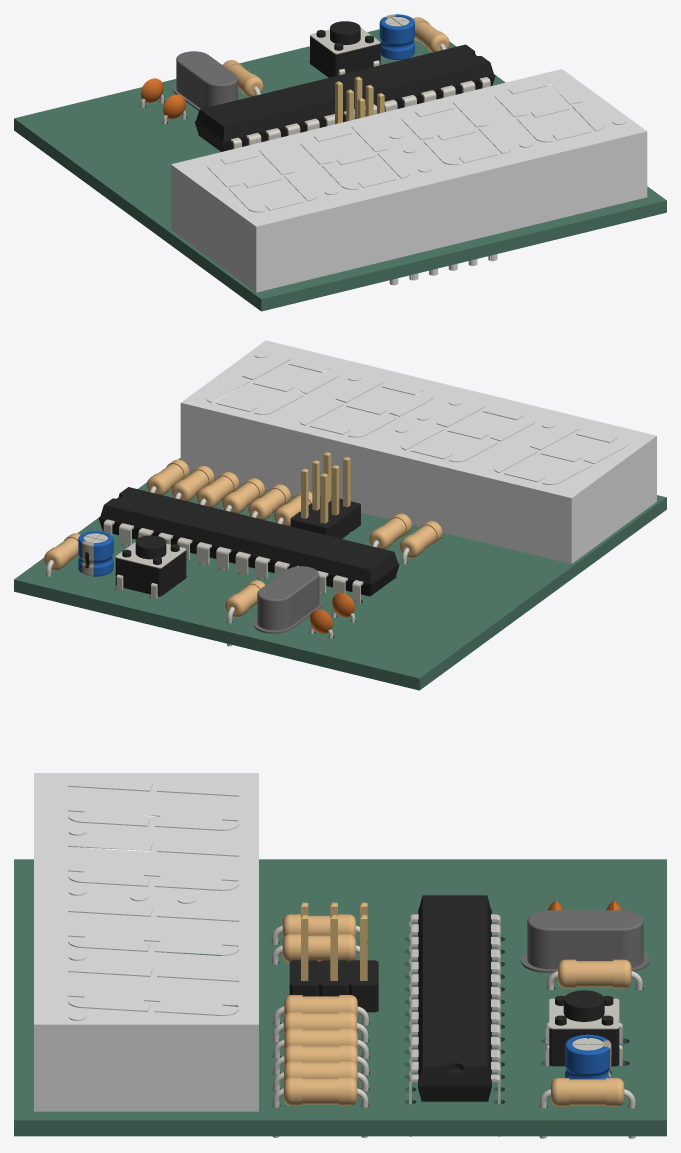
Rendered from 7_segment_display.glb.
3 renders of one model, top to bottom at view 1: azimuth 30°, elevation 25°; view 2: azimuth 150°, elevation 25°; view 3: azimuth 270°, elevation 25°, orthographic. The views are drawn at different scales.
Visible parts, largest first — view 1: 7seg(rev2) (Compound) (×5), =>[0:1:1:10], U1, Lost?Click here â, Y1, C3, Resume, R1, R2, C2, C1; view 2: 7seg(rev2) (Compound) (×5), =>[0:1:1:10], U1, Resume, Lost?Click here â, Y1, C3, R3, R8, R7, R6, R10 (+7 smaller); view 3: 7seg(rev2) (Compound) (×14), =>[0:1:1:10], U1, Y1, Resume, Lost?Click here â, R1, R9, R2, C3, R8, R7 (+5 smaller).
Boxes of the visible parts, <box> form: 7seg(rev2) (Compound) (×5): <box>171,69,647,292</box>; =>[0:1:1:10]: <box>14,29,666,311</box>; U1: <box>195,44,495,151</box>; Lost?Click here â: <box>310,21,380,77</box>; Y1: <box>172,51,237,110</box>; C3: <box>379,14,414,59</box>; Resume: <box>335,76,384,124</box>; R1: <box>413,17,449,52</box>; R2: <box>223,60,263,97</box>; C2: <box>162,94,186,124</box>; C1: <box>140,78,163,107</box>; 7seg(rev2) (Compound) (×5): <box>180,340,656,563</box>; =>[0:1:1:10]: <box>14,413,666,690</box>; U1: <box>99,487,399,603</box>; Resume: <box>290,452,360,538</box>; Lost?Click here â: <box>115,535,186,599</box>; Y1: <box>253,566,322,633</box>; C3: <box>78,531,113,576</box>; R3: <box>399,521,442,564</box>; R8: <box>369,513,411,549</box>; R7: <box>248,484,290,519</box>; R6: <box>222,478,264,513</box>; R10: <box>196,472,239,507</box>; 7seg(rev2) (Compound) (×14): <box>34,773,258,1111</box>; =>[0:1:1:10]: <box>14,859,666,1136</box>; U1: <box>409,895,500,1136</box>; Y1: <box>521,910,649,972</box>; Resume: <box>289,902,378,1012</box>; Lost?Click here â: <box>545,990,622,1066</box>; R1: <box>539,1078,635,1138</box>; R9: <box>272,1077,368,1137</box>; R2: <box>547,959,642,990</box>; C3: <box>565,1034,611,1079</box>; R8: <box>271,934,359,964</box>; R7: <box>272,1011,368,1042</box>.
Size of the model in its own units: 0.053 by 0.0195 by 0.056.
